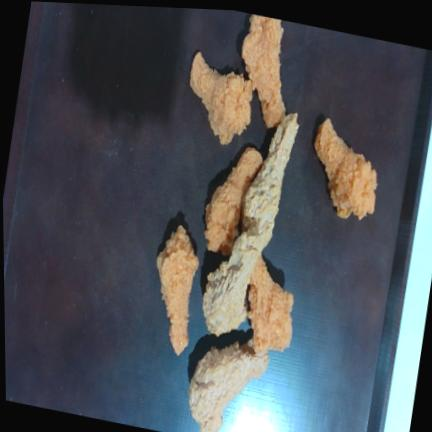chicken: (242, 113, 299, 251), (189, 342, 269, 432), (314, 118, 377, 220), (205, 148, 263, 255), (203, 232, 261, 336), (190, 52, 253, 144), (157, 225, 199, 355), (242, 14, 285, 128), (249, 256, 294, 352)
